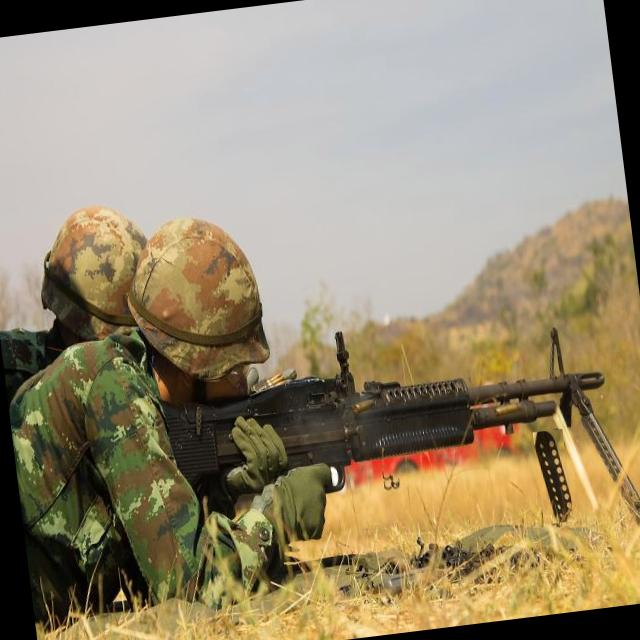Gun: (162, 331, 640, 519), (535, 431, 572, 522)
